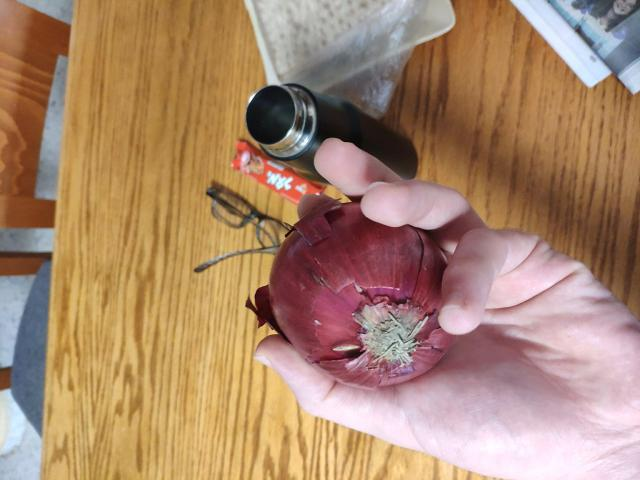onion: (274, 222, 454, 383)
